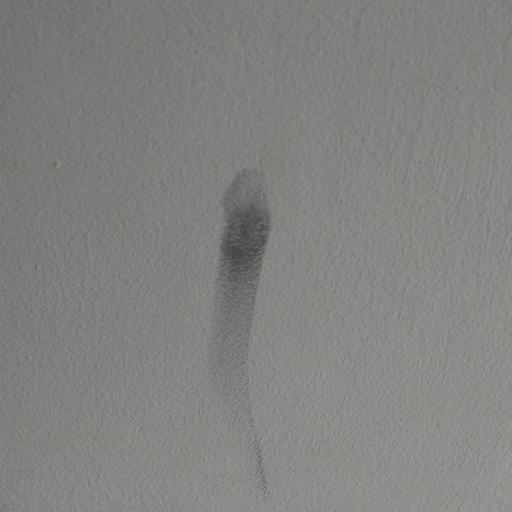stain: (196, 121, 289, 484)
